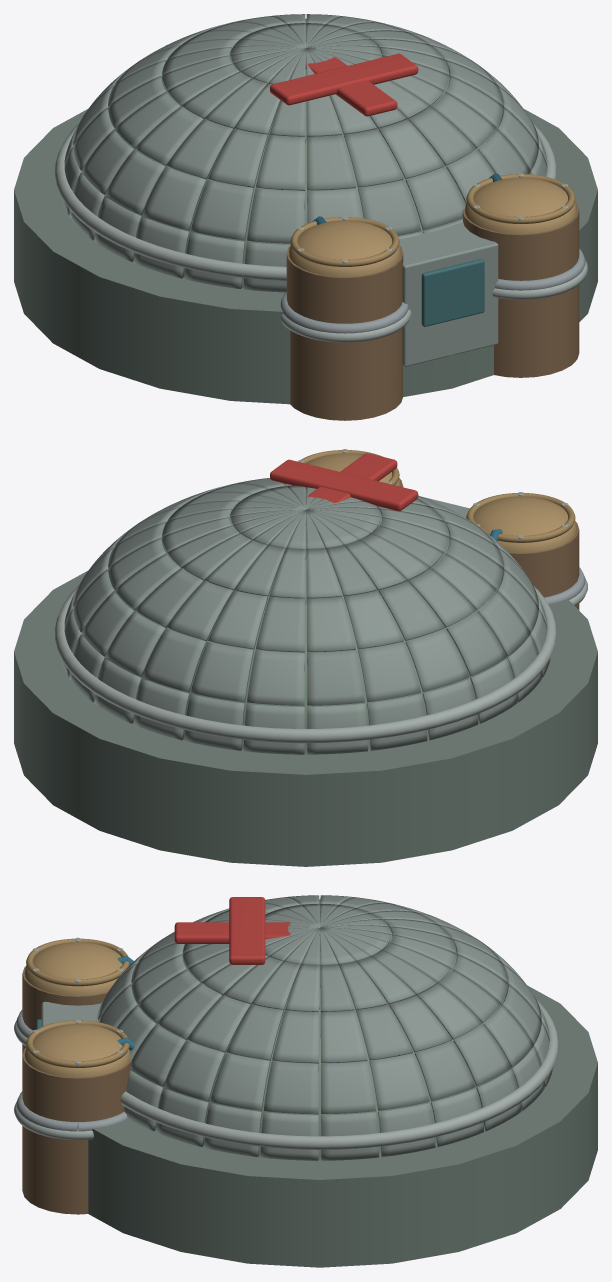
3 renders of one model, top to bottom at view 1: azimuth 30°, elevation 25°; view 2: azimuth 150°, elevation 25°; view 3: azimuth 270°, elevation 25°, orthographic. The views are drawn at different scales.
Parts seen in each view (by area): view 1: Medical dome manufactured skin, Foundation drum, Cylindrical tower, Cylindrical tower.001, Medical entry pressure vestibule, Medical dome structural belt, Tower crown, Tower crown.001, Medical entry glazing, Medical roof marker horizontal, Medical care dome, Medical roof marker vertical (+6 smaller); view 2: Medical dome manufactured skin, Foundation drum, Medical dome structural belt, Tower crown, Medical roof marker horizontal, Medical care dome, Cylindrical tower, Medical roof marker vertical, Medical gas vessel service flange, Tower crown.001; view 3: Medical dome manufactured skin, Foundation drum, Cylindrical tower.001, Medical dome structural belt, Tower crown.001, Tower crown, Medical roof marker horizontal, Medical care dome, Medical roof marker vertical, Cylindrical tower, Medical gas vessel service flange, Medical gas vessel service flange.001 (+3 smaller).
Part boxes in pixels (x1,y1,x2,y2): Medical dome manufactured skin: (61,14,547,292); Foundation drum: (14,109,597,404); Cylindrical tower: (286,245,403,420); Cylindrical tower.001: (462,202,579,377); Medical entry pressure vestibule: (398,219,498,366); Medical dome structural belt: (54,123,557,280); Tower crown: (289,220,400,276); Tower crown.001: (465,177,576,234); Medical entry glazing: (421,259,484,326); Medical roof marker horizontal: (270,53,418,105); Medical care dome: (101,18,500,288); Medical roof marker vertical: (305,57,397,116); Medical dome manufactured skin: (61,478,550,754); Foundation drum: (14,571,597,866); Medical dome structural belt: (54,585,557,743); Tower crown: (473,496,576,552); Medical roof marker horizontal: (270,459,418,511); Medical care dome: (101,489,510,752); Cylindrical tower: (509,521,579,610); Medical roof marker vertical: (305,453,397,503); Medical gas vessel service flange: (466,493,575,542); Tower crown.001: (305,453,400,486); Medical dome manufactured skin: (96,895,552,1160); Foundation drum: (88,985,597,1267); Cylindrical tower.001: (22,1047,131,1214); Medical dome structural belt: (120,1000,559,1149); Tower crown.001: (24,1024,130,1077); Tower crown: (24,942,122,995); Medical roof marker horizontal: (229,897,265,964); Medical care dome: (132,899,514,1159); Medical roof marker vertical: (174,922,290,943); Cylindrical tower: (22,965,107,1054); Medical gas vessel service flange: (26,938,129,986); Medical gas vessel service flange.001: (26,1020,129,1067).
Size of the model in its own units: 2.3 by 1.02 by 2.41.
